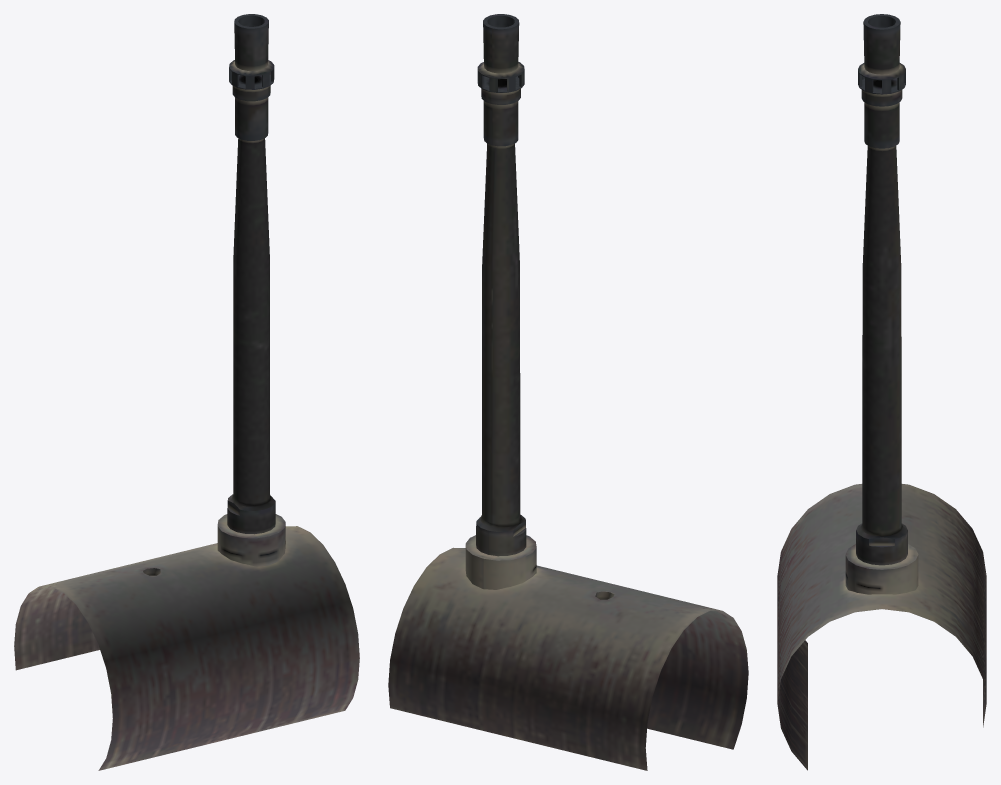
File: Gun_04.glb
3 renders of one model, left to right at view 1: azimuth 30°, elevation 25°; view 2: azimuth 150°, elevation 25°; view 3: azimuth 270°, elevation 25°, orthographic. The views are drawn at different scales.
Visible parts, largest first — view 1: set_0_group_0; view 2: set_0_group_0; view 3: set_0_group_0.
Boxes of the visible parts, x1,y1,x2,y2 form: set_0_group_0: [14, 14, 359, 770]; set_0_group_0: [388, 14, 748, 770]; set_0_group_0: [777, 14, 986, 770].
Bounding box in the file's own units: 0.4218 × 1.11 × 0.292.
Materials: 1 (1 with a texture image).
